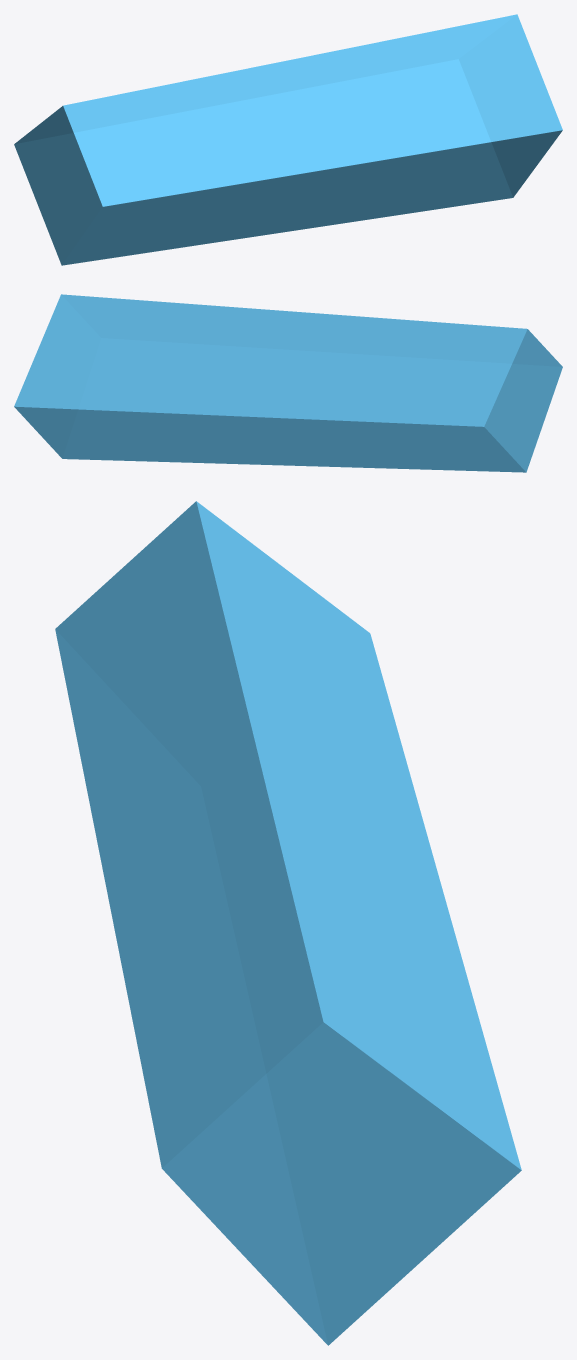
Rendered from Event_421364160_HErechit_48.fbx.
3 renders of one model, top to bottom at view 1: azimuth 30°, elevation 25°; view 2: azimuth 150°, elevation 25°; view 3: azimuth 270°, elevation 25°, orthographic. The views are drawn at different scales.
Visible parts, largest first — view 1: Model; view 2: Model; view 3: Model.
Part boxes in pixels (x1,y1,x2,y2): Model: (14, 14, 562, 265); Model: (14, 294, 562, 472); Model: (55, 501, 521, 1345).
Size of the model in its own units: 1.61 by 0.746 by 0.746.
